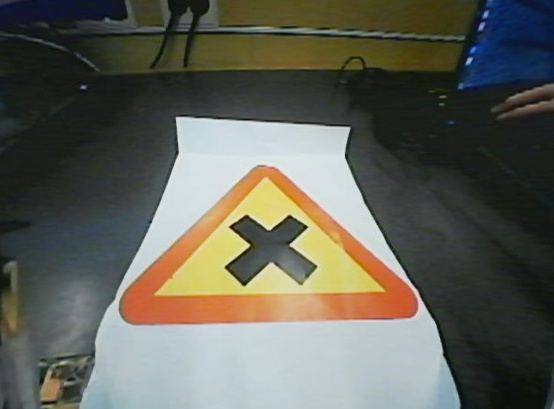junction: (86, 154, 466, 330)
